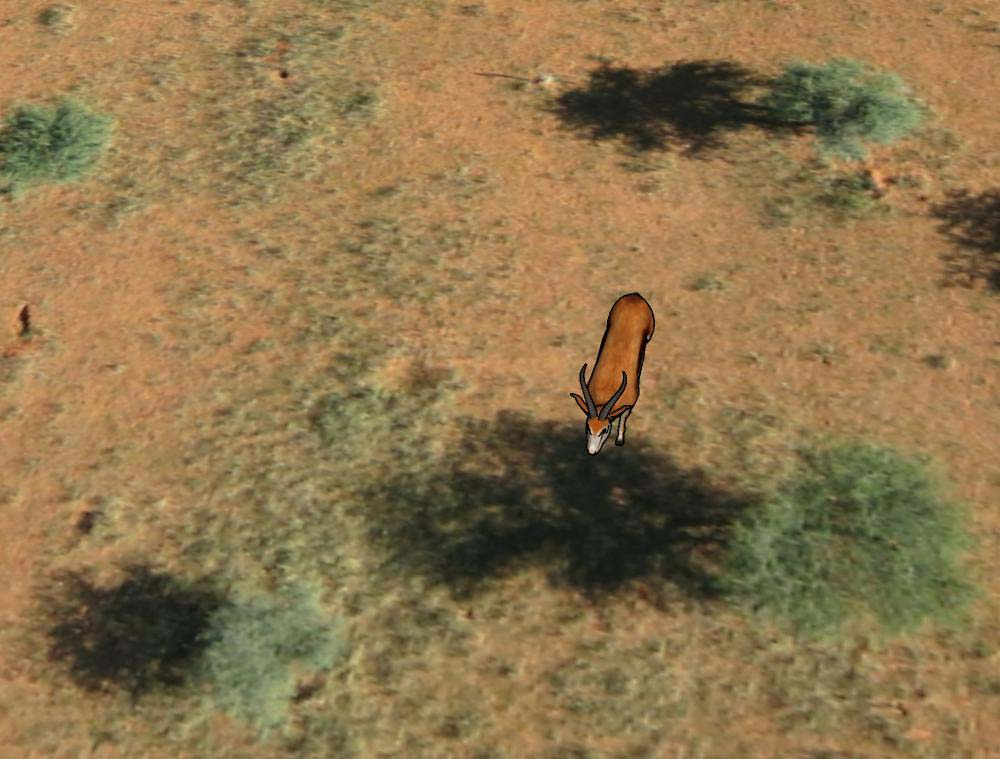springbok: (568, 282, 664, 458)
